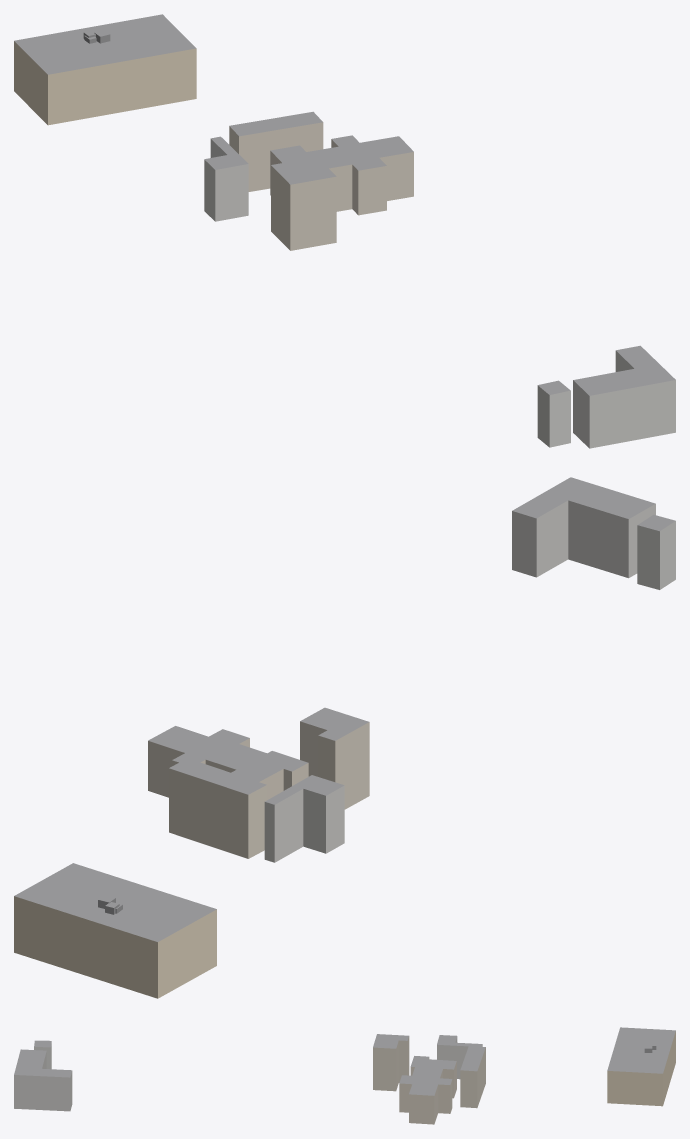
The model's file is building_5_-4.glb.
3 renders of one model, top to bottom at view 1: azimuth 30°, elevation 25°; view 2: azimuth 150°, elevation 25°; view 3: azimuth 270°, elevation 25°, orthographic. The views are drawn at different scales.
Parts seen in each view (by area): view 1: roof, concrete_warm, concrete_light, sandstone; view 2: roof, concrete_light, concrete_warm, sandstone; view 3: roof, concrete_warm, concrete_light, sandstone.
Boxes of the visible parts, <box> form: roof: <box>14,14,675,395</box>; concrete_warm: <box>229,122,413,250</box>; concrete_light: <box>204,139,675,448</box>; sandstone: <box>14,41,196,125</box>; roof: <box>14,477,675,941</box>; concrete_light: <box>264,500,675,862</box>; concrete_warm: <box>148,721,369,858</box>; sandstone: <box>14,896,216,998</box>; roof: <box>14,1027,675,1095</box>; concrete_warm: <box>373,1036,485,1124</box>; concrete_light: <box>14,1037,482,1111</box>; sandstone: <box>607,1031,675,1106</box>.
Bounding box in the file's own units: 49.45 × 15.14 × 214.
